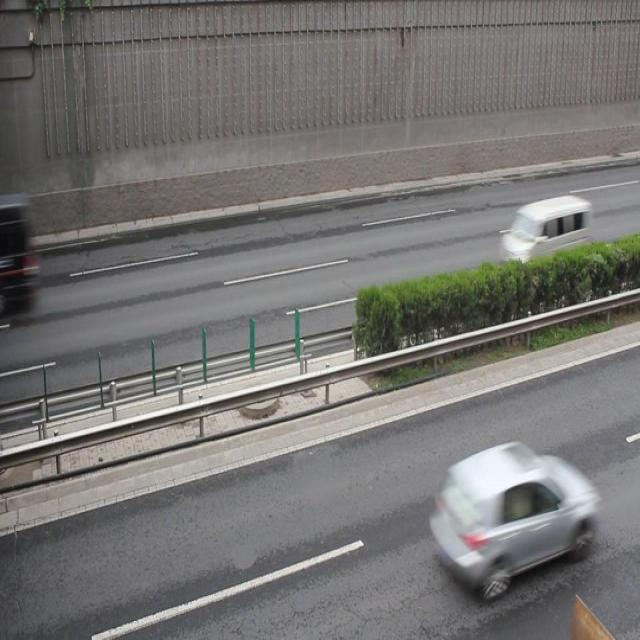car: (429, 437, 595, 592)
truck: (498, 196, 592, 275)
